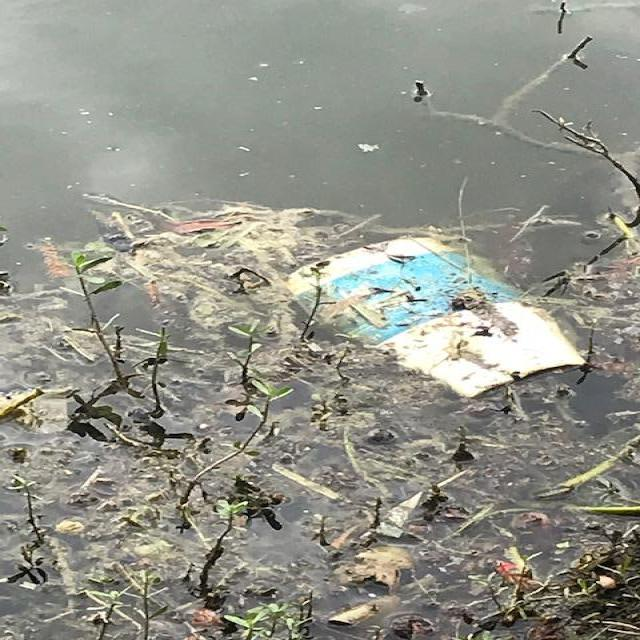litter: (308, 41, 531, 262)
